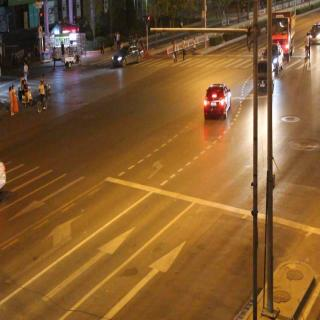BigCar: (268, 1, 296, 59)
Car: (108, 41, 148, 73), (251, 50, 277, 99), (203, 81, 232, 123), (266, 35, 287, 72), (0, 153, 8, 200), (309, 17, 320, 46)
